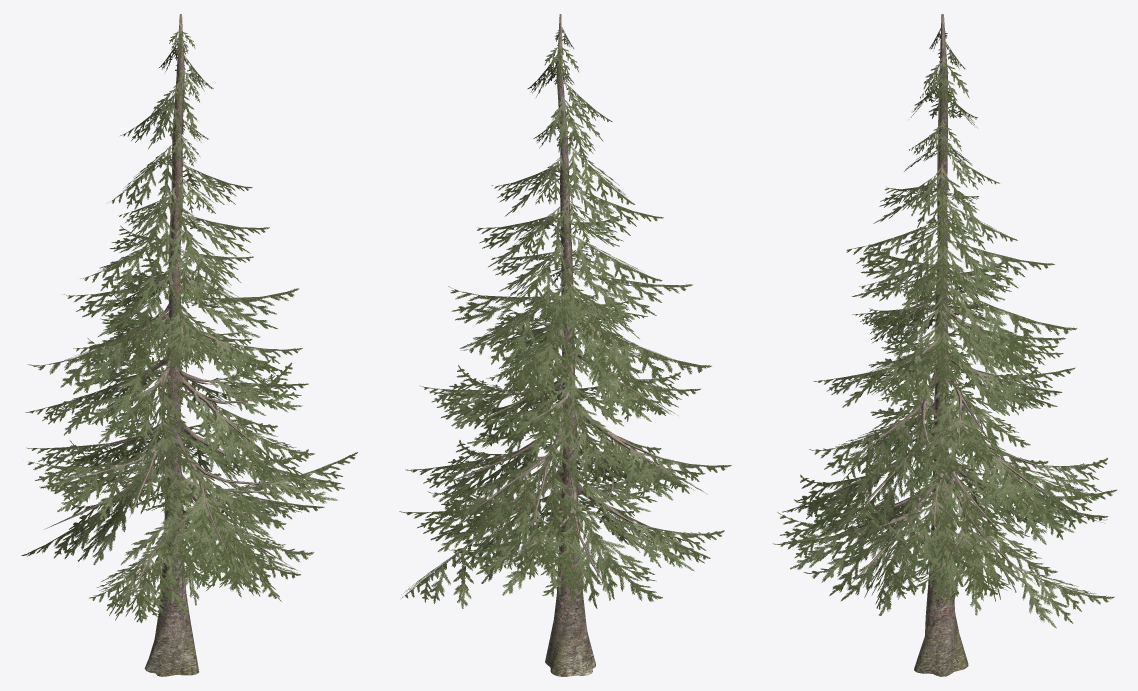
Rendered from Spruce_7_LOD1.fbx.
3 views of the same model, side by side, from view 1: azimuth 30°, elevation 25°; view 2: azimuth 150°, elevation 25°; view 3: azimuth 270°, elevation 25° (orthographic).
Parts seen in each view (by area): view 1: spruce 2_1, spruce 1_0; view 2: spruce 2_1, spruce 1_0; view 3: spruce 2_1, spruce 1_0.
Part boxes in pixels (x1,y1,x2,y2): spruce 2_1: (21,27,357,623); spruce 1_0: (44,14,299,676); spruce 2_1: (399,27,731,608); spruce 1_0: (442,14,681,676); spruce 2_1: (773,28,1116,628); spruce 1_0: (818,14,1067,676).
Bounding box in the file's own units: 248 × 500 × 246.
2 materials, 2 textured.
